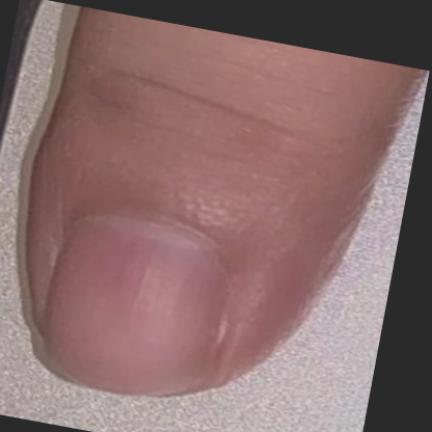Nail: (42, 213, 229, 393)
